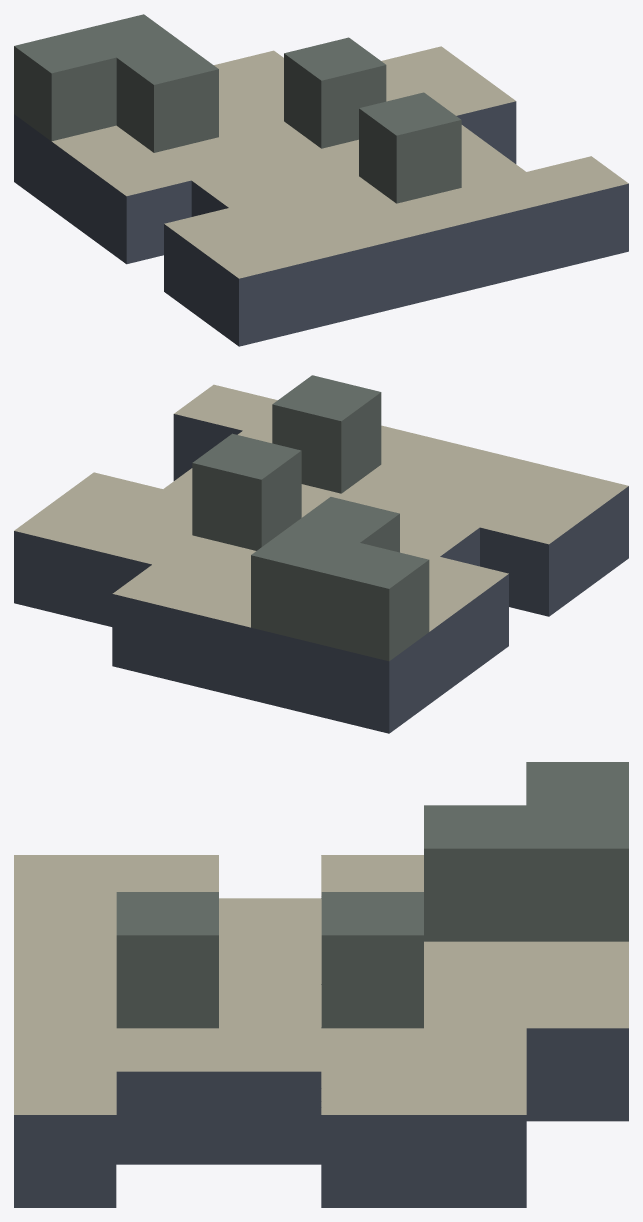
3 renders of one model, top to bottom at view 1: azimuth 30°, elevation 25°; view 2: azimuth 150°, elevation 25°; view 3: azimuth 270°, elevation 25°, orthographic. The views are drawn at different scales.
Parts seen in each view (by area): view 1: 9.3; view 2: 9.3; view 3: 9.3.
Boxes of the visible parts, x1,y1,x2,y2 form: 9.3: [14, 14, 628, 346]; 9.3: [14, 375, 628, 733]; 9.3: [14, 762, 628, 1207].
Bounding box in the file's own units: 600 × 200 × 600.
